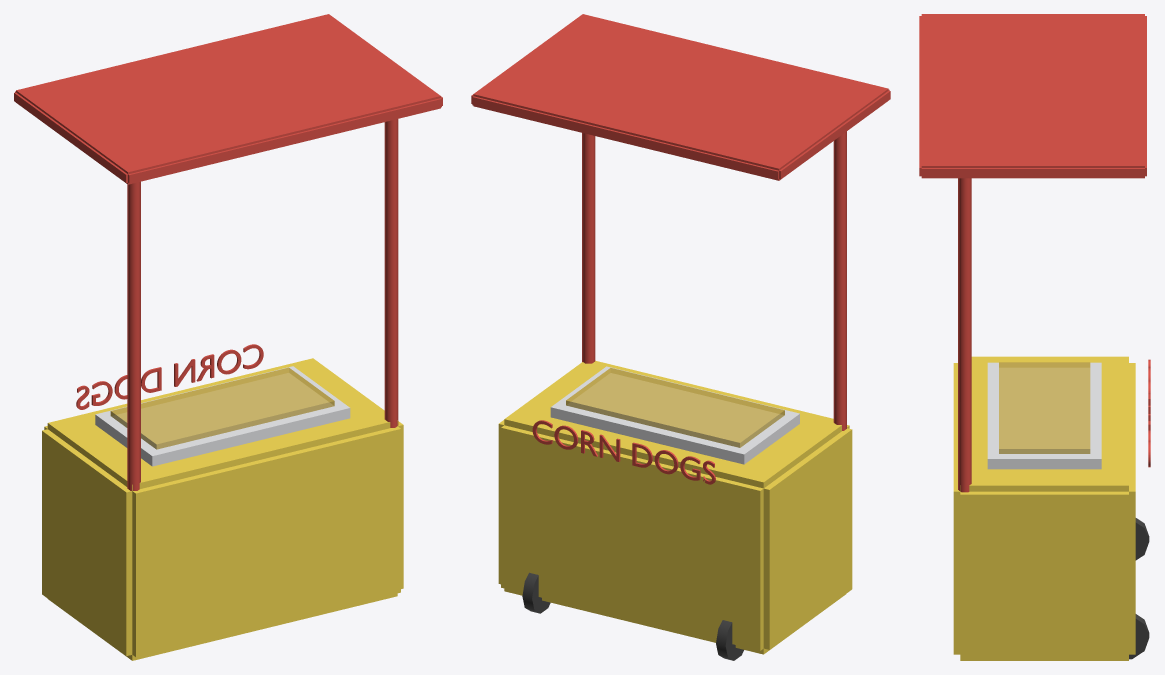
File: corn_dog_cart.glb
3 renders of one model, left to right at view 1: azimuth 30°, elevation 25°; view 2: azimuth 150°, elevation 25°; view 3: azimuth 270°, elevation 25°, orthographic. The views are drawn at different scales.
Parts seen in each view (by area): view 1: corn_dog_cart; view 2: corn_dog_cart; view 3: corn_dog_cart.
Part boxes in pixels (x1,y1,x2,y2): corn_dog_cart: (14, 14, 442, 660); corn_dog_cart: (471, 14, 890, 660); corn_dog_cart: (919, 14, 1150, 660).
Size of the model in its own units: 1.6 by 2.51 by 1.02.
